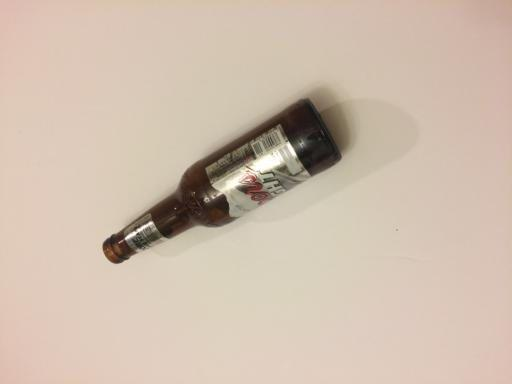botolkaca: (101, 99, 343, 273)
